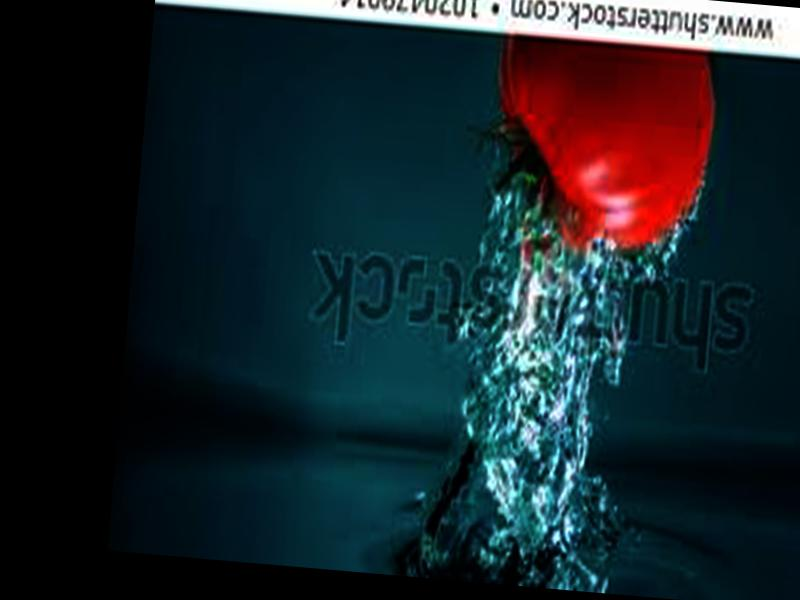Tomato: (483, 33, 718, 257)
